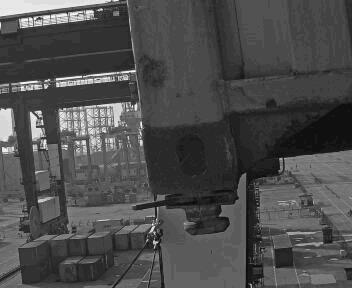twist_lock_1: (151, 186, 243, 248)
